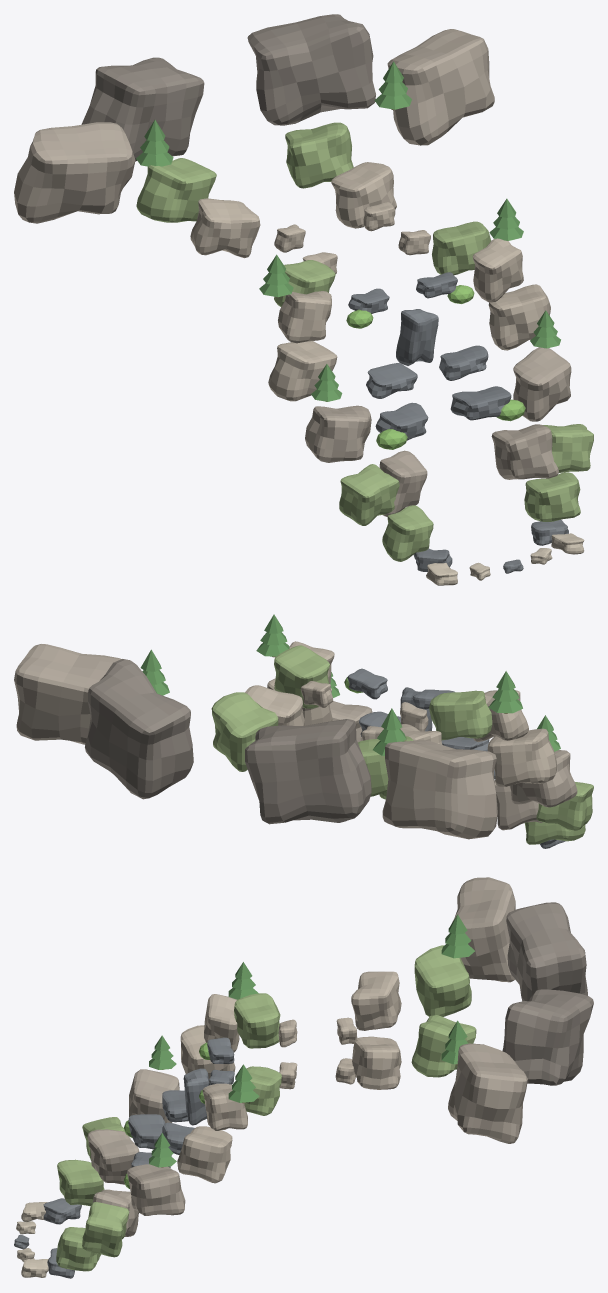
Rendered from aoe_waterfall_cliff_gorge_01.glb.
The picture shows the model from 3 angles, top to bottom: view 1: azimuth 30°, elevation 25°; view 2: azimuth 150°, elevation 25°; view 3: azimuth 270°, elevation 25°; orthographic projection. The views are drawn at different scales.
Parts seen in each view (by area): view 1: Upper_Headwall_1, Upper_Headwall_2, Upper_Headwall_3, Upper_Headwall_0, Upper_Headwall_4, Upper_Headwall_6, Upper_Headwall_5, Wall_Crag_4, Wall_Crag_1, Lower_Plunge_Crag_1, Upper_Headwall_7, Wall_Crag_0 (+18 smaller); view 2: Upper_Headwall_0, Upper_Headwall_1, Upper_Headwall_2, Upper_Headwall_3, Upper_Headwall_6, Wall_Crag_0, VP_Side_Crag_0, VP_Side_Crag_2, Wall_Crag_1, Wall_Crag_2, Upper_Headwall_7, Lower_Plunge_Crag_0 (+17 smaller); view 3: Upper_Headwall_1, Upper_Headwall_3, Upper_Headwall_0, Upper_Headwall_2, Upper_Headwall_4, Upper_Headwall_5, Wall_Crag_4, Wall_Crag_3, Upper_Headwall_7, Upper_Headwall_6, VP_Side_Crag_0, Lower_Plunge_Crag_0 (+16 smaller).
Part boxes in pixels (x1,y1,x2,y2): Upper_Headwall_1: (247,14,375,125); Upper_Headwall_2: (14,122,135,223); Upper_Headwall_3: (387,29,494,145); Upper_Headwall_0: (81,57,204,161); Upper_Headwall_4: (136,158,216,222); Upper_Headwall_6: (285,122,353,188); Upper_Headwall_5: (190,198,260,258); Wall_Crag_4: (513,347,571,421); Wall_Crag_1: (305,405,371,462); Lower_Plunge_Crag_1: (491,424,558,479); Upper_Headwall_7: (331,162,396,228); Wall_Crag_0: (268,341,337,401); Upper_Headwall_0: (245,719,371,824); Upper_Headwall_1: (85,659,193,799); Upper_Headwall_2: (382,740,497,839); Upper_Headwall_3: (14,644,121,744); Upper_Headwall_6: (211,692,278,771); Wall_Crag_0: (487,728,556,786); VP_Side_Crag_0: (429,690,492,740); VP_Side_Crag_2: (274,645,329,708); Wall_Crag_1: (509,750,577,807); Wall_Crag_2: (536,782,593,830); Upper_Headwall_7: (245,685,304,725); Lower_Plunge_Crag_0: (494,780,542,830); Upper_Headwall_1: (502,989,593,1085); Upper_Headwall_3: (448,1043,527,1143); Upper_Headwall_0: (506,902,587,1001); Upper_Headwall_2: (452,877,515,982); Upper_Headwall_4: (414,945,471,1016); Upper_Headwall_5: (351,971,401,1030); Wall_Crag_4: (127,1164,185,1215); Wall_Crag_3: (177,1126,232,1183); Upper_Headwall_7: (352,1036,401,1089); Upper_Headwall_6: (411,1015,476,1077); VP_Side_Crag_0: (234,993,280,1048); Lower_Plunge_Crag_0: (87,1129,139,1184).
Bounding box in the file's own units: 33.59 × 21.81 × 39.26.
